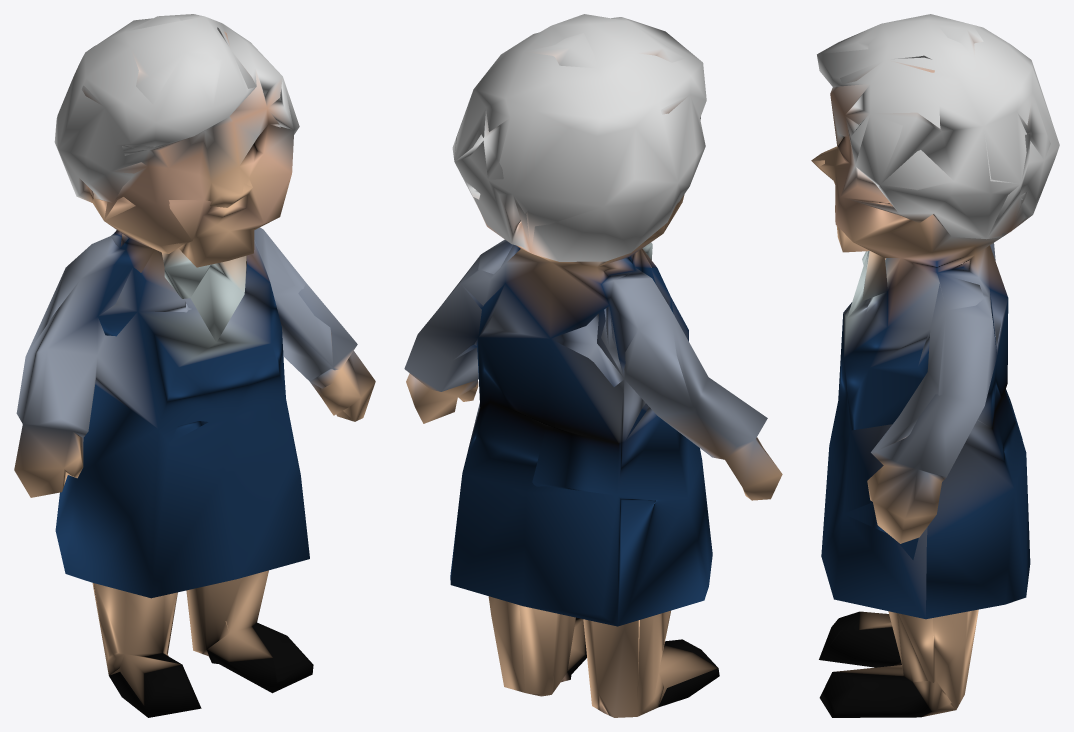
File: gen3d-grandma-lod1.glb
The picture shows the model from 3 angles, left to right: view 1: azimuth 30°, elevation 25°; view 2: azimuth 150°, elevation 25°; view 3: azimuth 270°, elevation 25°; orthographic projection. The views are drawn at different scales.
Parts seen in each view (by area): view 1: part_0; view 2: part_0; view 3: part_0.
Boxes of the visible parts, x1=… form: part_0: x1=14, y1=14, x2=375, y2=717; part_0: x1=404, y1=14, x2=782, y2=717; part_0: x1=811, y1=14, x2=1059, y2=717.
Bounding box in the file's own units: 0.5877 × 1 × 0.3433.
